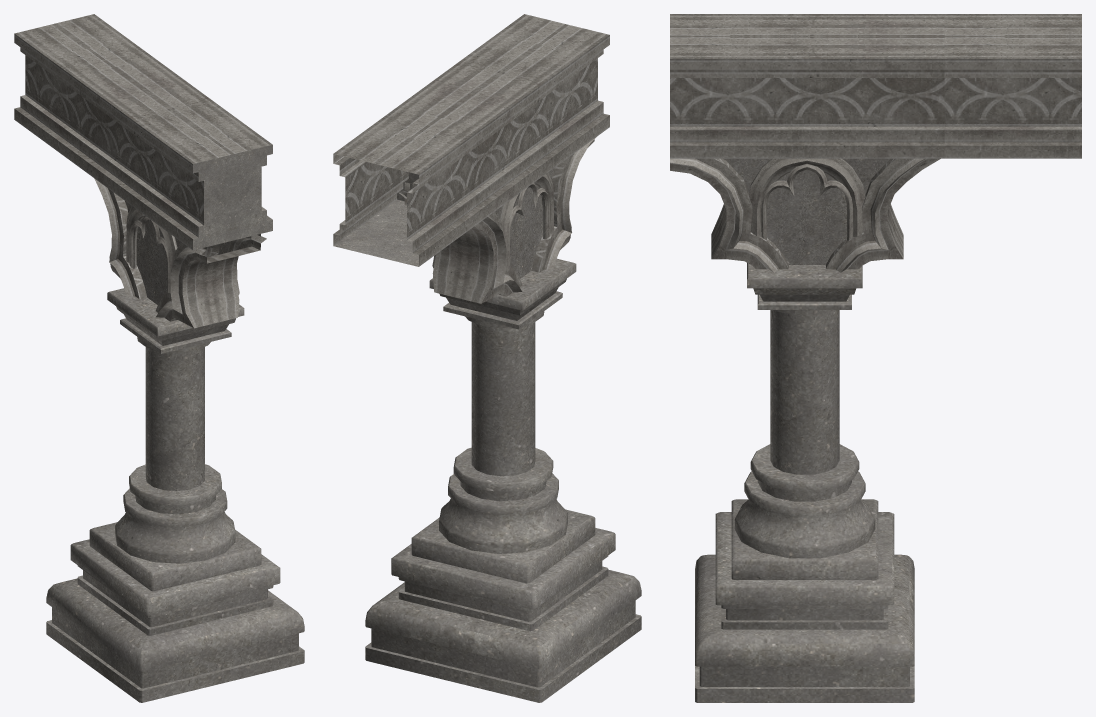
File: SM_Railing_02.fbx
3 renders of one model, left to right at view 1: azimuth 30°, elevation 25°; view 2: azimuth 150°, elevation 25°; view 3: azimuth 270°, elevation 25°, orthographic. The views are drawn at different scales.
Parts seen in each view (by area): view 1: SM_Railing_02_LOD0; view 2: SM_Railing_02_LOD0; view 3: SM_Railing_02_LOD0.
Part boxes in pixels (x1,y1,x2,y2): SM_Railing_02_LOD0: (14, 14, 304, 702); SM_Railing_02_LOD0: (333, 14, 641, 702); SM_Railing_02_LOD0: (670, 14, 1081, 702).
Size of the model in its own units: 40 by 75 by 124.
